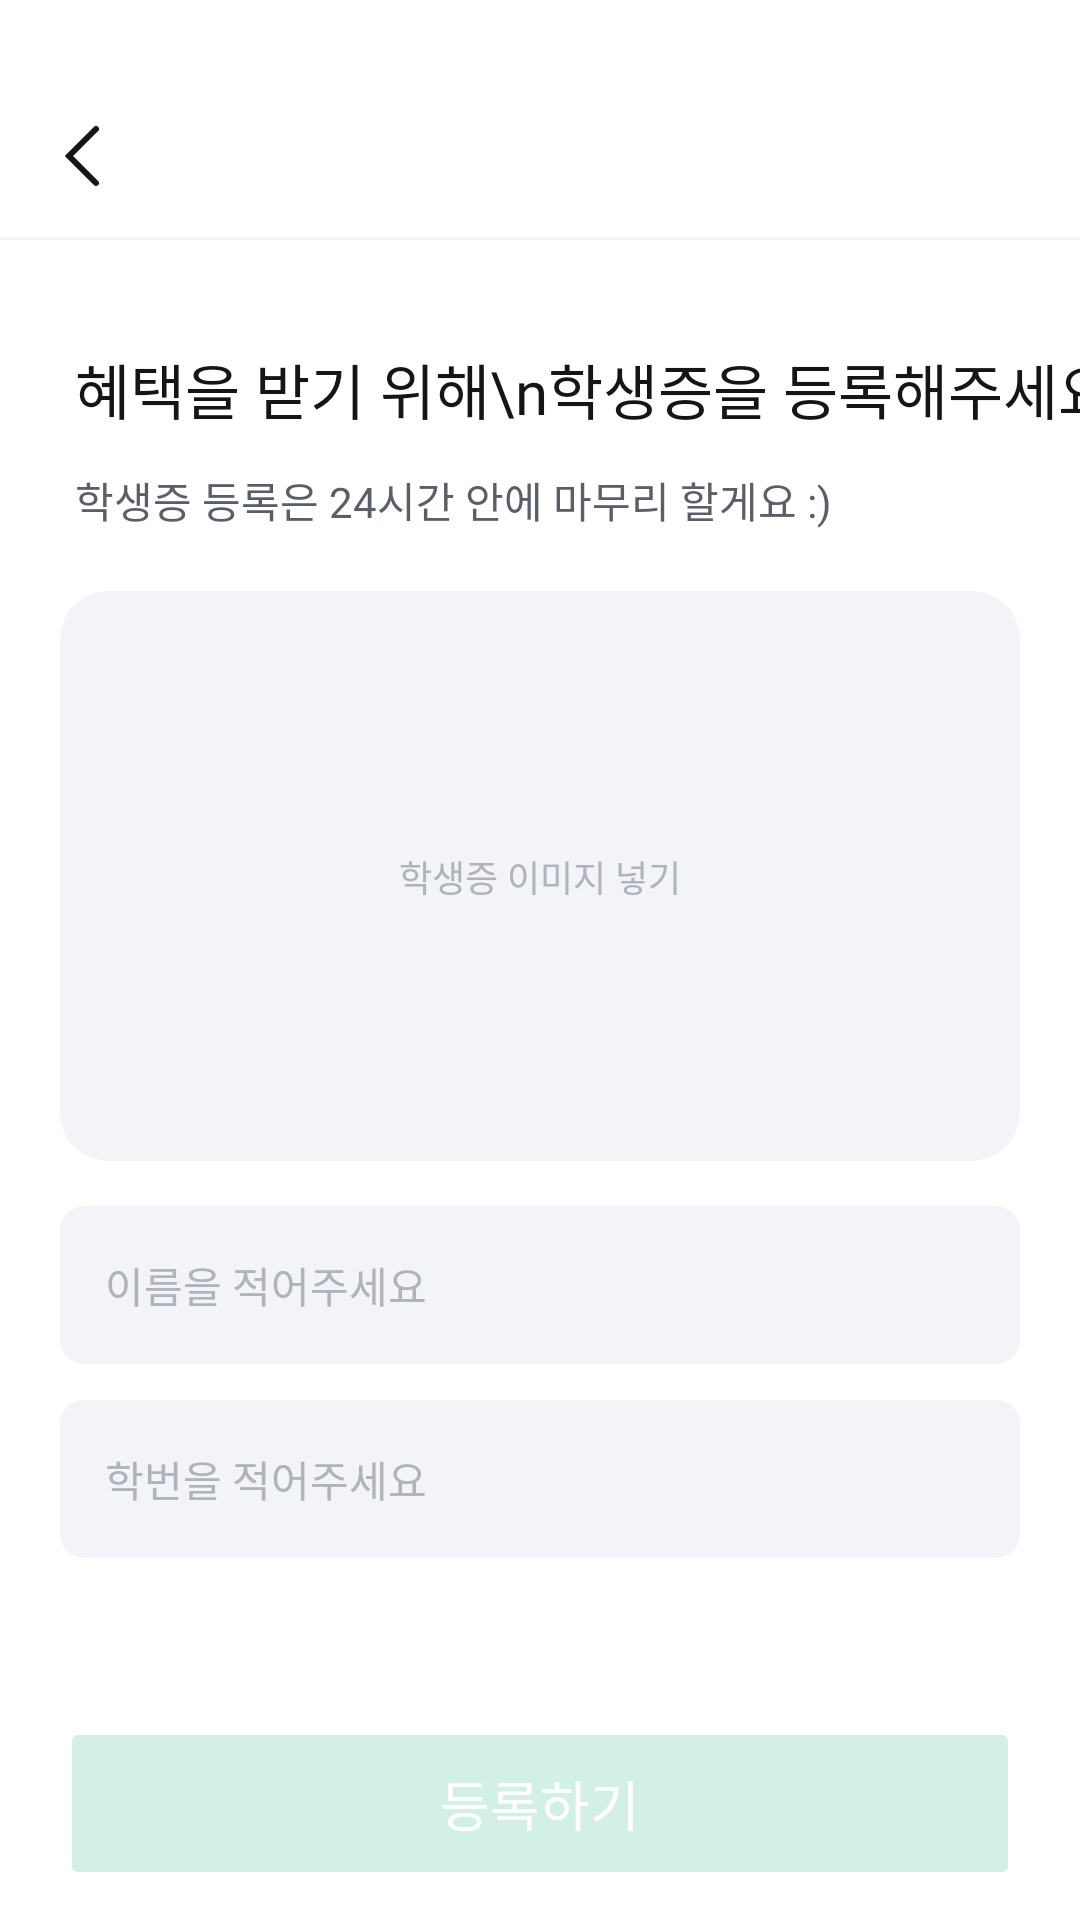

Screen size 1080w x 1920h. Icon name, then its box in pixels as (left=x1, top=y1, right=x2, bottom=y2):
back: (left=65, top=125, right=99, bottom=186)
